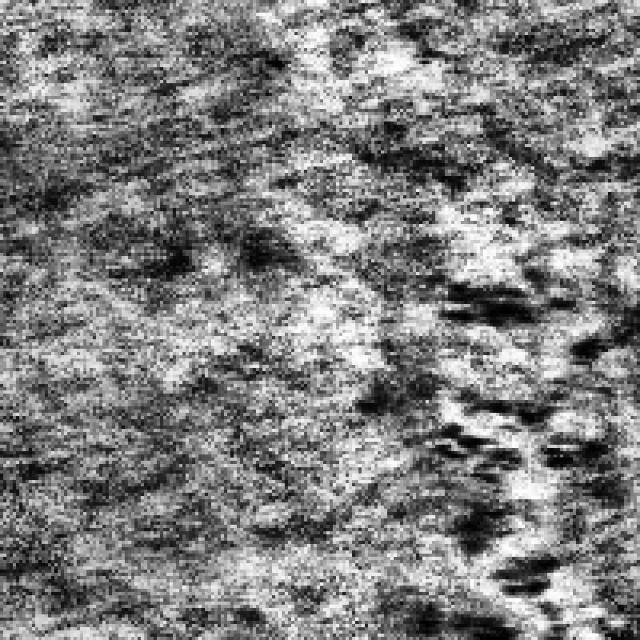Crazing: (410, 256, 596, 637)
